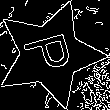P_E: (19, 29, 80, 79)
